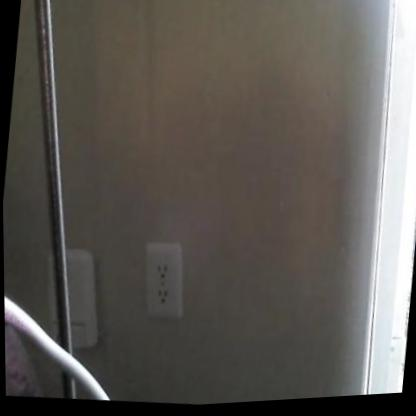OUTLET: (134, 237, 191, 325)
